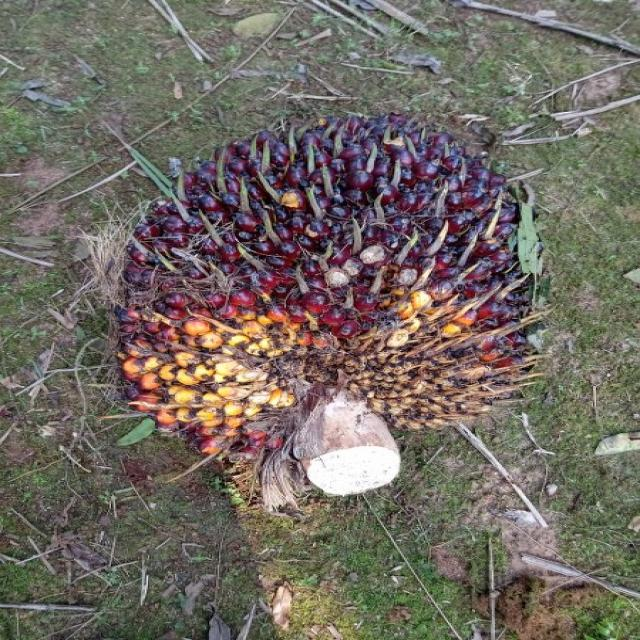fraksi 1: (68, 88, 624, 536)
